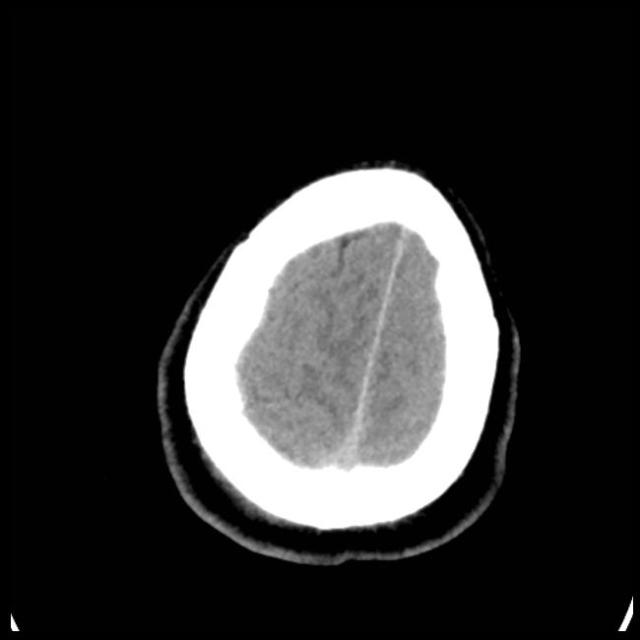lesion: (150, 154, 528, 569)
